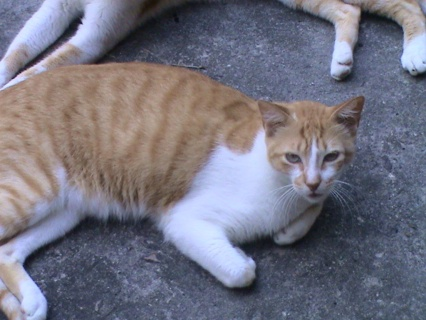Cat: (0, 59, 363, 318)
